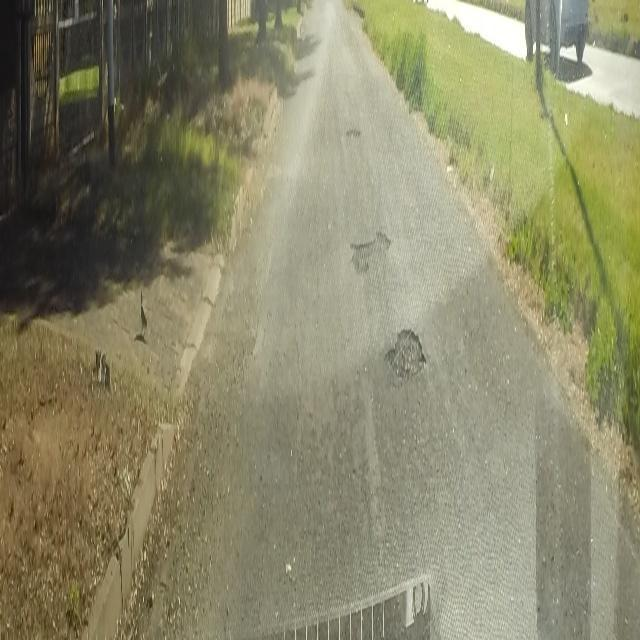pothole: (382, 313, 426, 385), (348, 224, 392, 280), (344, 126, 364, 142)
